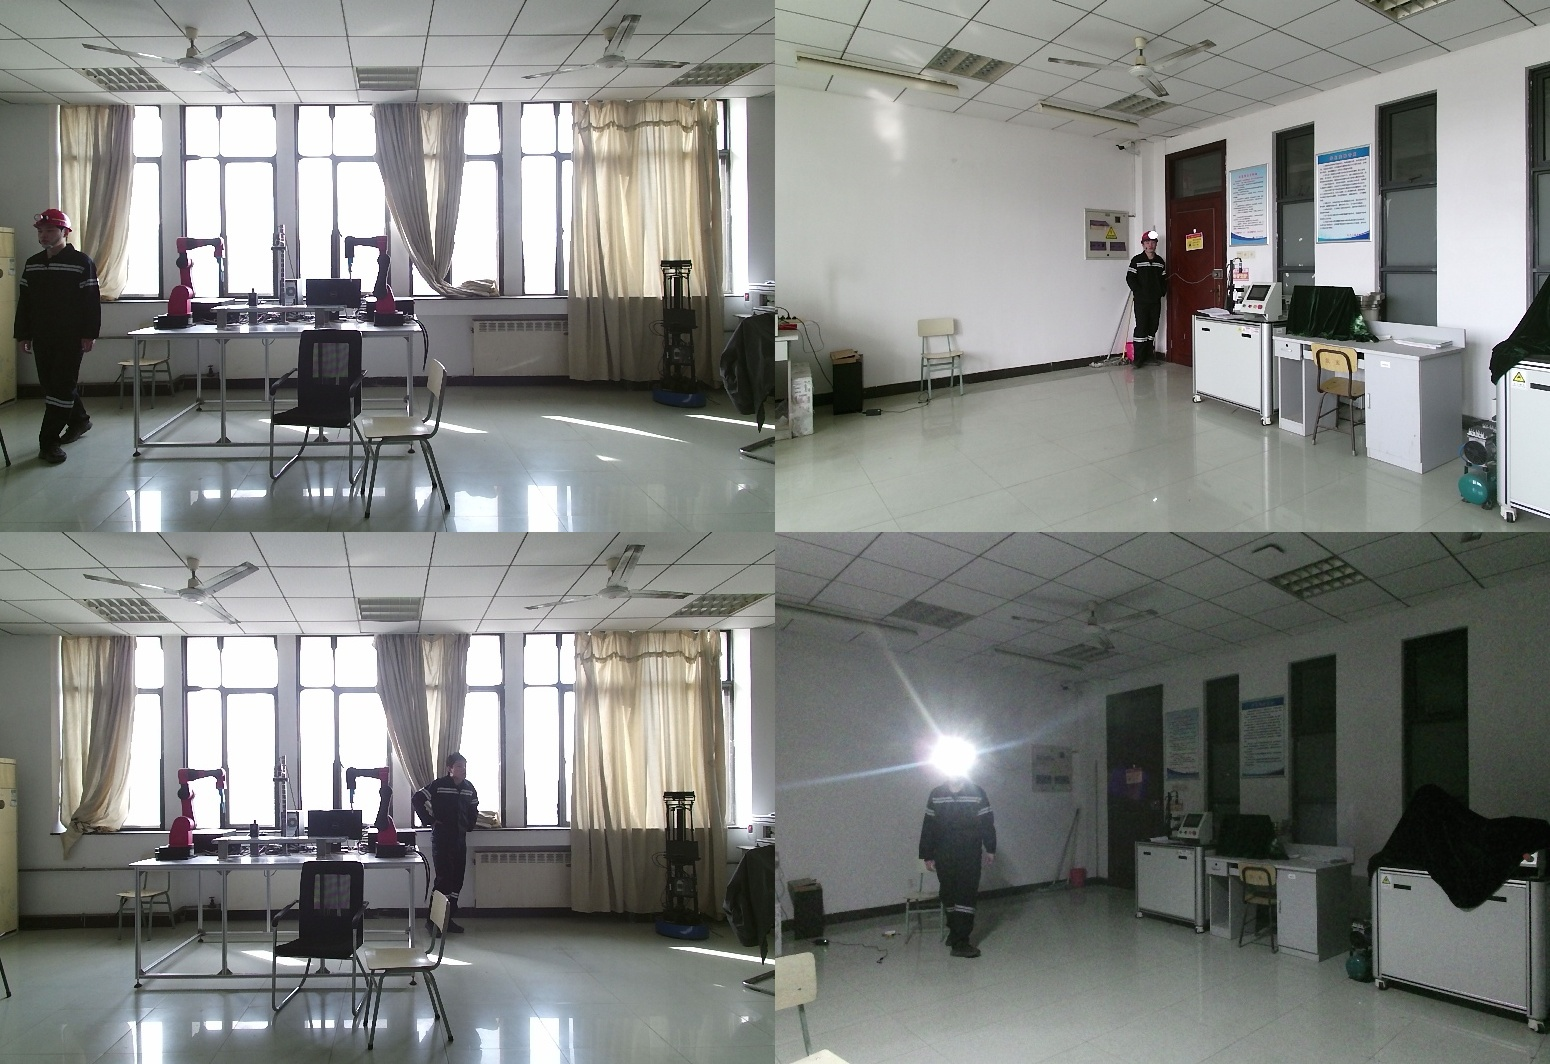person: (9, 207, 106, 465), (915, 752, 996, 967), (413, 755, 479, 943), (1124, 232, 1167, 371)
